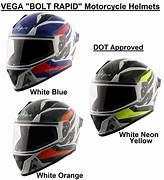Helmet: (7, 14, 78, 90), (90, 59, 160, 135), (13, 99, 79, 175)
